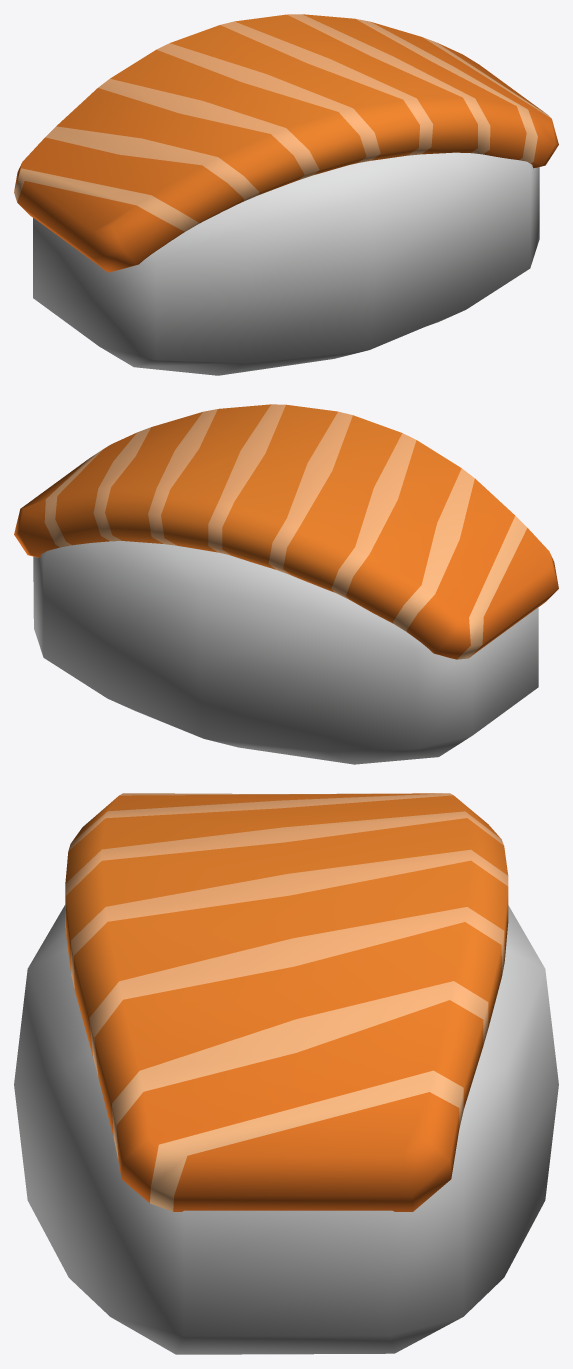
The model's file is Product Nigiri.fbx.
3 views of the same model, one above another, from view 1: azimuth 30°, elevation 25°; view 2: azimuth 150°, elevation 25°; view 3: azimuth 270°, elevation 25° (orthographic). The views are drawn at different scales.
Parts seen in each view (by area): view 1: Product_Nigiri; view 2: Product_Nigiri; view 3: Product_Nigiri.
Boxes of the visible parts, <box> form: Product_Nigiri: <box>14,14,558,375</box>; Product_Nigiri: <box>14,404,558,764</box>; Product_Nigiri: <box>14,793,558,1354</box>.
Size of the model in its own units: 129 by 67.98 by 84.02.
